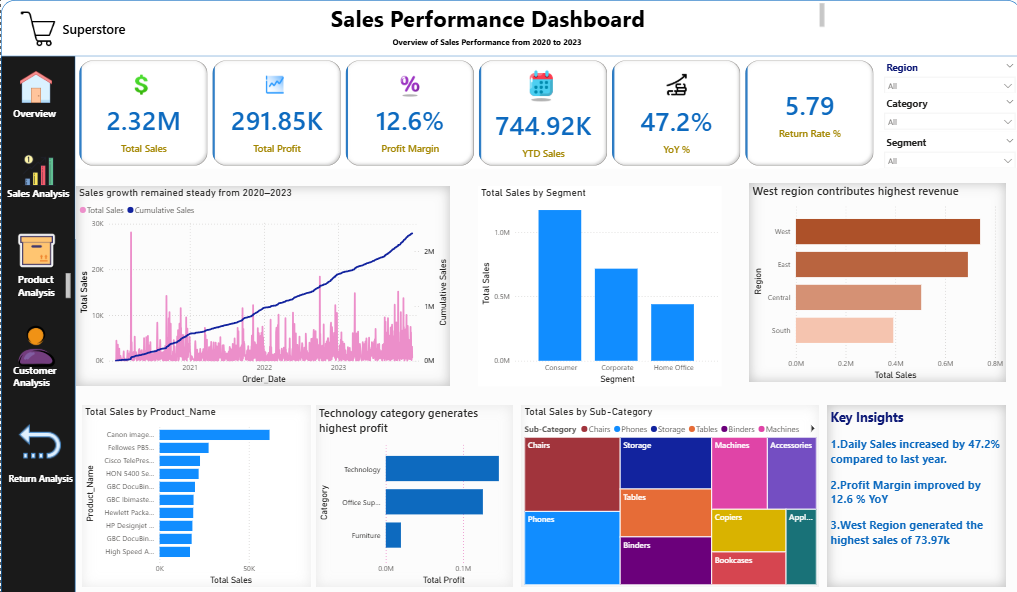

This screenshot's page, from the dashboard's own definition file:
{"tool":"powerbi","page":{"name":"Overview","canvas":[1700,1000],"ordinal":0},"visuals":[{"type":"shape","box":[0,0,124,1000],"z":0},{"type":"shape","box":[0,0,1700,94],"z":1000},{"type":"lineChart","title":"Sales growth remained steady from 2020–2023","fields":{"Y":["Orders.Total Sales"],"Y2":["Orders.Running Total"],"Category":["Orders.Order_Date"]},"box":[124,310,624,334],"z":2000},{"type":"barChart","title":"West region contributes highest revenue","fields":{"Category":["Orders.Region"],"Y":["Orders.Daily Sales"]},"box":[1248,306,428,332],"z":3000},{"type":"barChart","fields":{"Category":["Orders.Product_Name"],"Y":["Orders.Daily Sales"]},"box":[134,676,382,304],"z":4000},{"type":"barChart","title":"Technology category generates highest profit","fields":{"Category":["Orders.Category"],"Y":["Orders.Total Profit"]},"box":[526,676,328,304],"z":5000},{"type":"treemap","fields":{"Group":["Orders.Sub-Category"],"Values":["Orders.Daily Sales"]},"box":[868,676,496,304],"z":6000},{"type":"slicer","fields":{"Values":["Orders.Region"]},"box":[1462,96,238,60],"z":7000},{"type":"slicer","fields":{"Values":["Orders.Category"]},"box":[1462,156,238,64],"z":8000},{"type":"slicer","fields":{"Values":["Orders.Segment"]},"box":[1462,220,238,60],"z":9000},{"type":"cardVisual","fields":{"Data":["Orders.Daily Sales","Orders.Total Profit","Orders.Profit Margin","Orders.YTD Sales","Orders.YoY Growth %","Orders.Return Rate %"]},"box":[124,94,1338,186],"z":10000},{"type":"textbox","box":[546,0,832,54],"z":11000},{"type":"textbox","box":[648,54,412,78],"z":12000},{"type":"image","box":[28,8,70,78],"z":13000},{"type":"textbox","box":[98,28,220,110],"z":14000},{"type":"image","box":[26,98,66,94],"z":15000},{"type":"textbox","box":[16,172,232,322],"z":16000},{"type":"image","box":[22,228,82,116],"z":17000},{"type":"image","box":[20,368,78,100],"z":18000},{"type":"image","box":[8,518,96,120],"z":19000},{"type":"image","box":[22,690,84,92],"z":20000},{"type":"textbox","box":[4,306,278,76],"z":21000},{"type":"textbox","box":[22,450,98,52],"z":22000},{"type":"textbox","box":[16,600,98,76],"z":23000},{"type":"textbox","box":[8,782,162,68],"z":24000},{"type":"textbox","box":[1378,676,298,304],"z":25000},{"type":"columnChart","fields":{"Category":["Orders.Segment"],"Y":["Orders.Total Sales"]},"box":[794,310,406,334],"z":26000}]}

Visuals, with their boxes in screenshot pixels (x1, y1, x2, y2), scaled from the page's 1700x1000 canvas onto the 1017x592 screenshot:
shape: <region>0, 0, 74, 591</region>
shape: <region>0, 0, 1016, 56</region>
"Sales growth remained steady from 2020–2023" lineChart: <region>74, 184, 447, 381</region>
"West region contributes highest revenue" barChart: <region>747, 181, 1003, 378</region>
barChart - Orders.Product_Name x Orders.Daily Sales: <region>80, 400, 309, 580</region>
"Technology category generates highest profit" barChart: <region>315, 400, 511, 580</region>
treemap - Orders.Sub-Category x Orders.Daily Sales: <region>519, 400, 816, 580</region>
slicer - Orders.Region: <region>875, 57, 1016, 92</region>
slicer - Orders.Category: <region>875, 92, 1016, 130</region>
slicer - Orders.Segment: <region>875, 130, 1016, 166</region>
cardVisual - Orders.Daily Sales x Orders.Total Profit: <region>74, 56, 875, 166</region>
textbox: <region>327, 0, 824, 32</region>
textbox: <region>388, 32, 634, 78</region>
image: <region>17, 5, 59, 51</region>
textbox: <region>59, 17, 190, 82</region>
image: <region>16, 58, 55, 114</region>
textbox: <region>10, 102, 148, 292</region>
image: <region>13, 135, 62, 204</region>
image: <region>12, 218, 59, 277</region>
image: <region>5, 307, 62, 378</region>
image: <region>13, 408, 63, 463</region>
textbox: <region>2, 181, 169, 226</region>
textbox: <region>13, 266, 72, 297</region>
textbox: <region>10, 355, 68, 400</region>
textbox: <region>5, 463, 102, 503</region>
textbox: <region>824, 400, 1003, 580</region>
columnChart - Orders.Segment x Orders.Total Sales: <region>475, 184, 718, 381</region>
